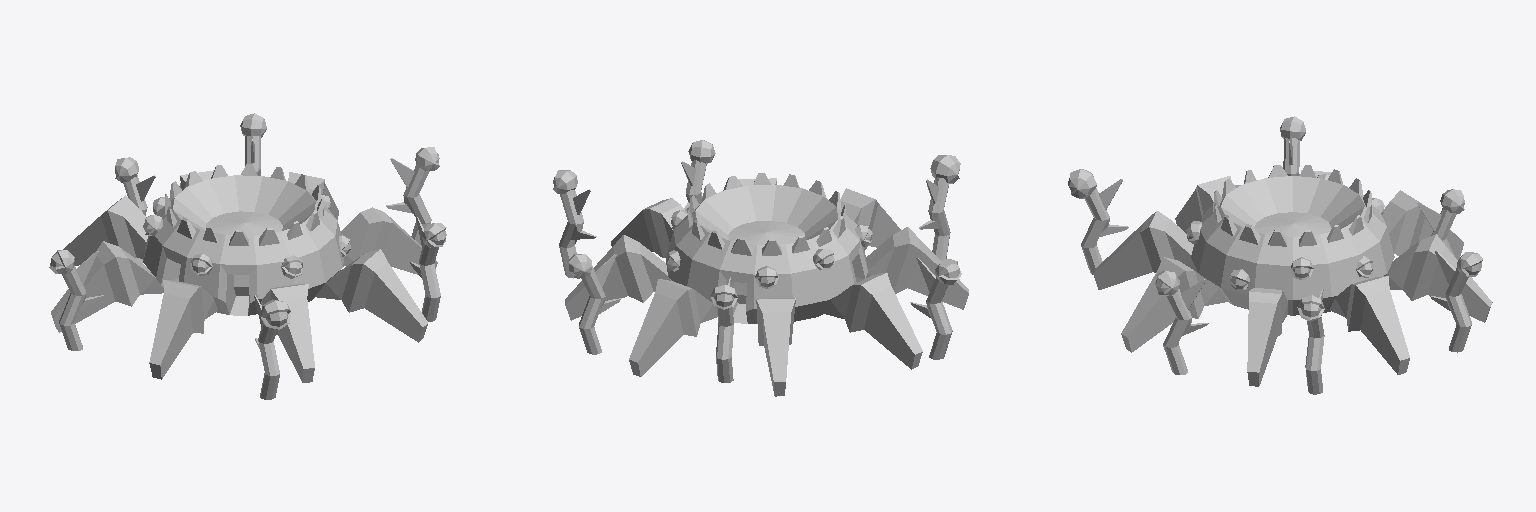
Rendered from cthun-base.obj.
3 renders of one model, left to right at view 1: azimuth 30°, elevation 25°; view 2: azimuth 150°, elevation 25°; view 3: azimuth 270°, elevation 25°, orthographic.
Parts seen in each view (by area): view 1: Cube.001_Cube.001; view 2: Cube.001_Cube.001; view 3: Cube.001_Cube.001.
Part boxes in pixels (left/top/right/bottom): Cube.001_Cube.001: left=49, top=113, right=446, bottom=399; Cube.001_Cube.001: left=553, top=140, right=968, bottom=396; Cube.001_Cube.001: left=1068, top=116, right=1492, bottom=394.
Size of the model in its own units: 14.78 by 4.01 by 13.73.